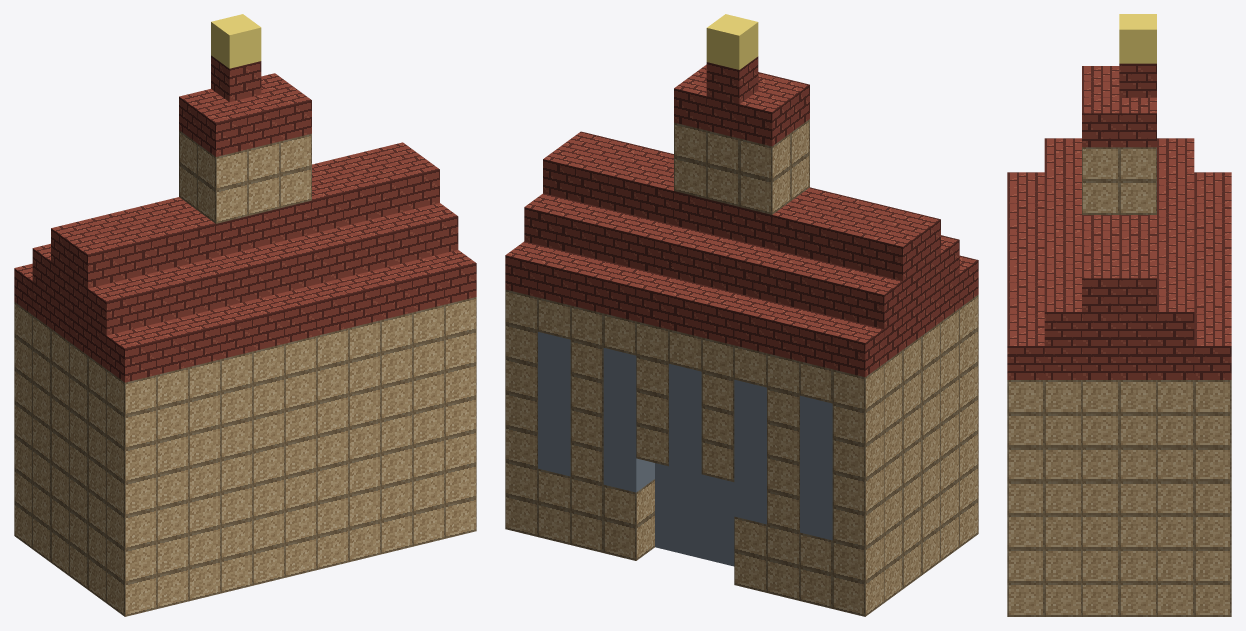
Rendered from franzoesische-kirche.glb.
3 renders of one model, left to right at view 1: azimuth 30°, elevation 25°; view 2: azimuth 150°, elevation 25°; view 3: azimuth 270°, elevation 25°, orthographic. The views are drawn at different scales.
Visible parts, largest first — view 1: franzoesische-kirche; view 2: franzoesische-kirche; view 3: franzoesische-kirche.
Part boxes in pixels (x1,y1,x2,y2): franzoesische-kirche: (14,14,476,616); franzoesische-kirche: (505,14,978,616); franzoesische-kirche: (1007,14,1231,616).
Size of the model in its own units: 11 by 15 by 6.
1 material, 1 textured.
